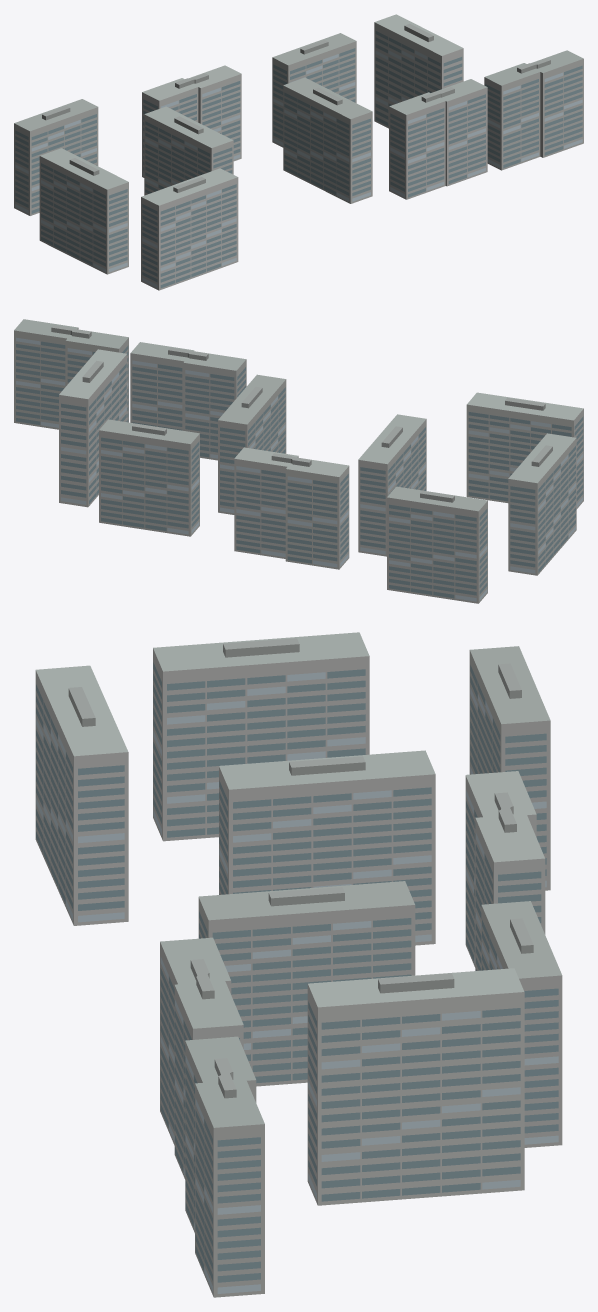
File: apt-a13522004.glb
3 views of the same model, one above another, from view 1: azimuth 30°, elevation 25°; view 2: azimuth 150°, elevation 25°; view 3: azimuth 270°, elevation 25° (orthographic). The views are drawn at different scales.
Visible parts, largest first — view 1: apt-a13522004; view 2: apt-a13522004; view 3: apt-a13522004.
Part boxes in pixels (bbox=[...]): apt-a13522004: bbox=[14, 14, 583, 290]; apt-a13522004: bbox=[14, 319, 583, 603]; apt-a13522004: bbox=[35, 632, 562, 1297].
Bounding box in the file's own units: 245 × 47.81 × 110.
